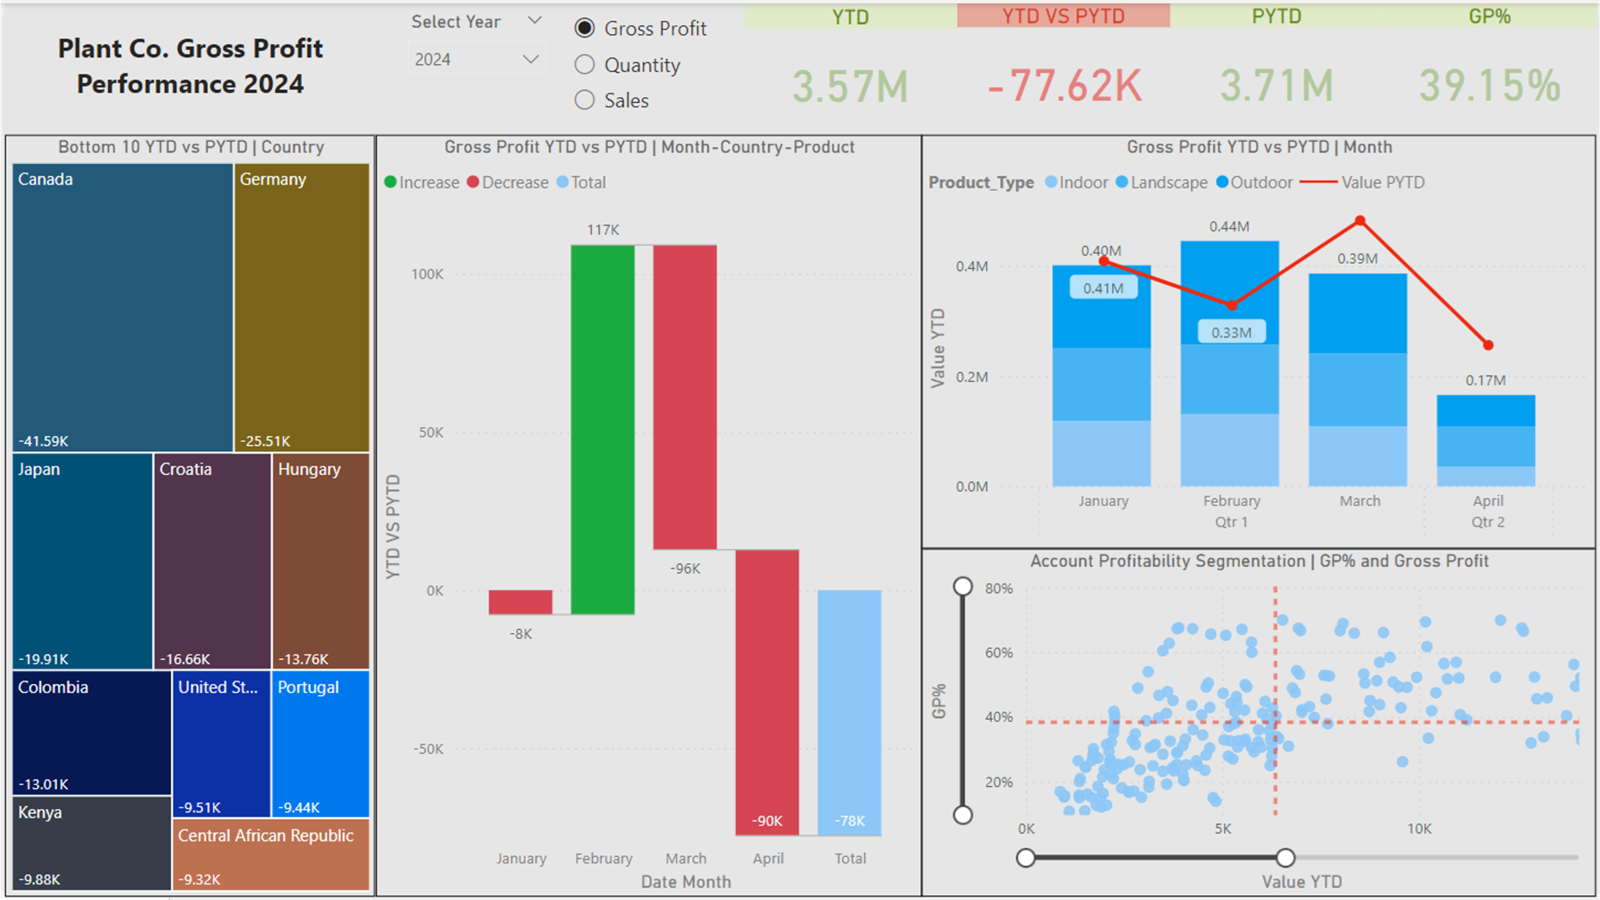

The page's visual inventory and layout, read from the dashboard file:
{"tool":"powerbi","page":{"name":"Plant Co. Performance Report","canvas":[1280,720],"ordinal":0},"visuals":[{"type":"card","title":"YTD","fields":{"Values":["_Measures.YTD_Sales"]},"box":[594.6,1.2,171.3,104.9],"z":0},{"type":"card","title":"PYTD","fields":{"Values":["_Measures.PYTD_Sales"]},"box":[937.1,0,171.3,106.1],"z":1000},{"type":"card","title":"YTD VS PYTD","fields":{"Values":["_Measures.YTD VS PYTD"]},"box":[765.8,0,171.3,106.1],"z":2000},{"type":"slicer","fields":{"Values":["Slc_Values.Values"]},"box":[445,0,149.5,106.1],"z":4000},{"type":"slicer","fields":{"Values":["Dim_Date.Date.Variation.Date Hierarchy.Year"]},"box":[313.6,1.2,131.5,74.8],"z":5000},{"type":"treemap","title":"Bottom 10 YTD vs PYTD | Country","fields":{"Group":["Dim_Account.country"],"Values":["_Measures.YTD VS PYTD"]},"box":[0,106.1,297.9,612.7],"z":6000},{"type":"waterfallChart","fields":{"Y":["_Measures.YTD VS PYTD"],"Category":["Dim_Date.Date.Variation.Date Hierarchy.Month","Dim_Account.country","Dim_Product.Product_Type","Dim_Product.Product_Name"]},"box":[297.9,106.1,439,612.7],"z":7000},{"type":"lineStackedColumnComboChart","fields":{"Y":["_Measures.S_YTD"],"Category":["Dim_Date.Date.Variation.Date Hierarchy.Quarter","Dim_Date.Date.Variation.Date Hierarchy.Month"],"Y2":["_Measures.S_PYTD"],"Series":["Dim_Product.Product_Type"]},"box":[736.9,106.1,542.7,332.9],"z":8000},{"type":"card","title":"GP%","fields":{"Values":["_Measures.GP%"]},"box":[1108.3,0,171.3,106.1],"z":8001},{"type":"scatterChart","fields":{"Y":["_Measures.GP%"],"X":["_Measures.S_YTD"],"Category":["Dim_Account.Account"]},"box":[736.9,439,542.7,279.8],"z":8002},{"type":"clusteredColumnChart","box":[0,20.5,297.9,66.3],"z":8003}]}

Visuals, with their boxes in screenshot pixels (x1, y1, x2, y2), scaled from the page's 1280x720 canvas onto the 1600x900 screenshot:
"YTD" card: bbox(743, 2, 957, 133)
"PYTD" card: bbox(1171, 0, 1386, 133)
"YTD VS PYTD" card: bbox(957, 0, 1171, 133)
slicer - Slc_Values.Values: bbox(556, 0, 743, 133)
slicer - Dim_Date.Date.Variation.Date Hierarchy.Year: bbox(392, 2, 556, 95)
"Bottom 10 YTD vs PYTD | Country" treemap: bbox(0, 133, 372, 899)
waterfallChart - _Measures.YTD VS PYTD x Dim_Date.Date.Variation.Date Hierarchy.Month: bbox(372, 133, 921, 899)
lineStackedColumnComboChart - _Measures.S_YTD x Dim_Date.Date.Variation.Date Hierarchy.Quarter: bbox(921, 133, 1599, 549)
"GP%" card: bbox(1385, 0, 1599, 133)
scatterChart - _Measures.GP% x _Measures.S_YTD: bbox(921, 549, 1599, 898)
clusteredColumnChart: bbox(0, 26, 372, 108)
